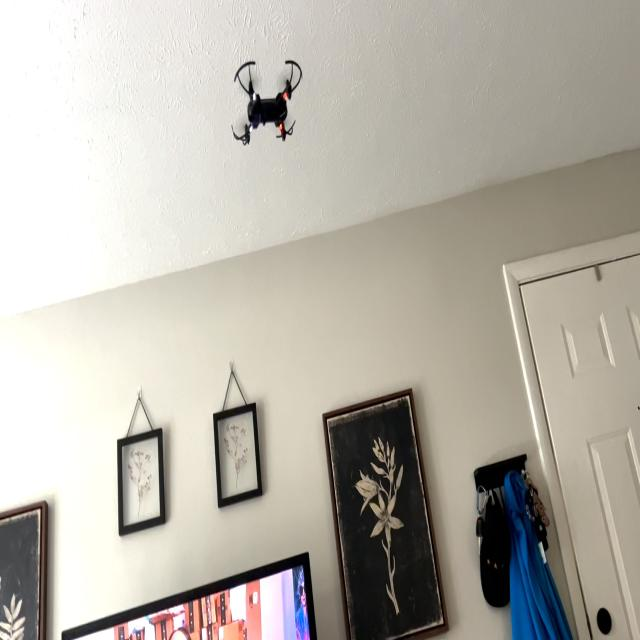drone: (225, 38, 309, 160)
